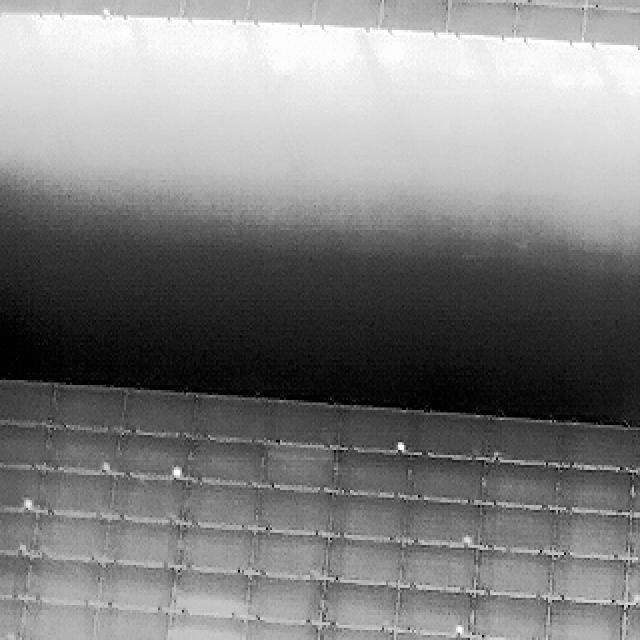Hotspots: (461, 530, 481, 548), (446, 621, 468, 637), (174, 464, 192, 482), (19, 496, 35, 512), (630, 592, 640, 608)
PV-modules: (554, 420, 640, 468), (182, 438, 267, 486), (188, 395, 271, 444), (36, 467, 115, 518), (553, 510, 630, 562), (30, 515, 110, 565), (404, 412, 490, 458), (27, 554, 106, 604), (473, 508, 557, 555), (398, 542, 475, 593), (99, 561, 176, 612), (246, 572, 321, 624), (332, 448, 409, 498), (318, 580, 398, 628), (556, 469, 634, 518), (179, 484, 260, 531), (403, 458, 482, 506), (473, 546, 550, 595), (324, 539, 404, 586), (47, 386, 126, 433), (404, 497, 478, 547), (121, 389, 195, 439), (484, 462, 562, 509), (110, 473, 183, 523), (173, 568, 249, 616), (177, 526, 253, 574), (330, 490, 407, 537), (103, 523, 180, 570), (250, 534, 325, 582), (548, 555, 624, 602), (114, 428, 188, 476), (491, 416, 562, 466), (468, 595, 546, 640), (45, 427, 123, 472), (396, 585, 469, 633), (267, 398, 336, 448), (259, 486, 330, 534), (332, 406, 403, 453), (266, 445, 336, 490), (544, 600, 620, 640), (16, 602, 96, 640), (515, 2, 588, 42), (0, 458, 47, 516), (446, 0, 519, 37), (90, 607, 168, 640), (580, 3, 640, 45), (378, 0, 452, 34), (0, 375, 52, 423), (309, 0, 386, 30), (0, 418, 46, 468), (166, 610, 242, 640), (0, 552, 24, 640), (244, 0, 318, 28), (0, 511, 34, 558), (238, 620, 316, 640), (177, 0, 251, 21), (106, 0, 184, 18), (0, 551, 29, 599), (312, 625, 392, 640), (0, 597, 18, 640), (390, 630, 466, 640), (628, 558, 640, 608), (628, 517, 640, 565), (624, 605, 640, 640), (464, 635, 542, 640), (632, 472, 640, 520), (636, 425, 640, 475), (0, 635, 16, 640)
